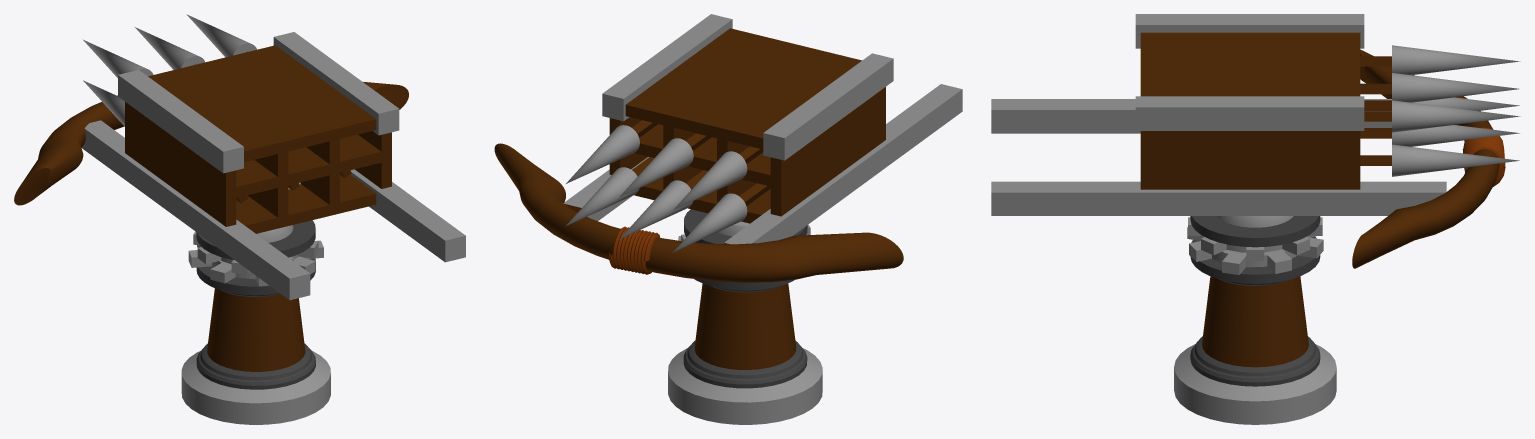
The model's file is torre1_3.fbx.
3 views of the same model, side by side, from view 1: azimuth 30°, elevation 25°; view 2: azimuth 150°, elevation 25°; view 3: azimuth 270°, elevation 25° (orthographic). The views are drawn at different scales.
Parts seen in each view (by area): view 1: Cylinder.013, Cube.004; view 2: Cylinder.013, Cube.004; view 3: Cylinder.013, Cube.004.
Boxes of the visible parts, <box> form: Cylinder.013: <box>14,14,465,300</box>; Cube.004: <box>181,240,330,424</box>; Cylinder.013: <box>494,14,962,282</box>; Cube.004: <box>668,236,822,424</box>; Cylinder.013: <box>991,14,1520,268</box>; Cube.004: <box>1174,227,1336,424</box>.
Bounding box in the file's own units: 1524 × 1119 × 1628.
